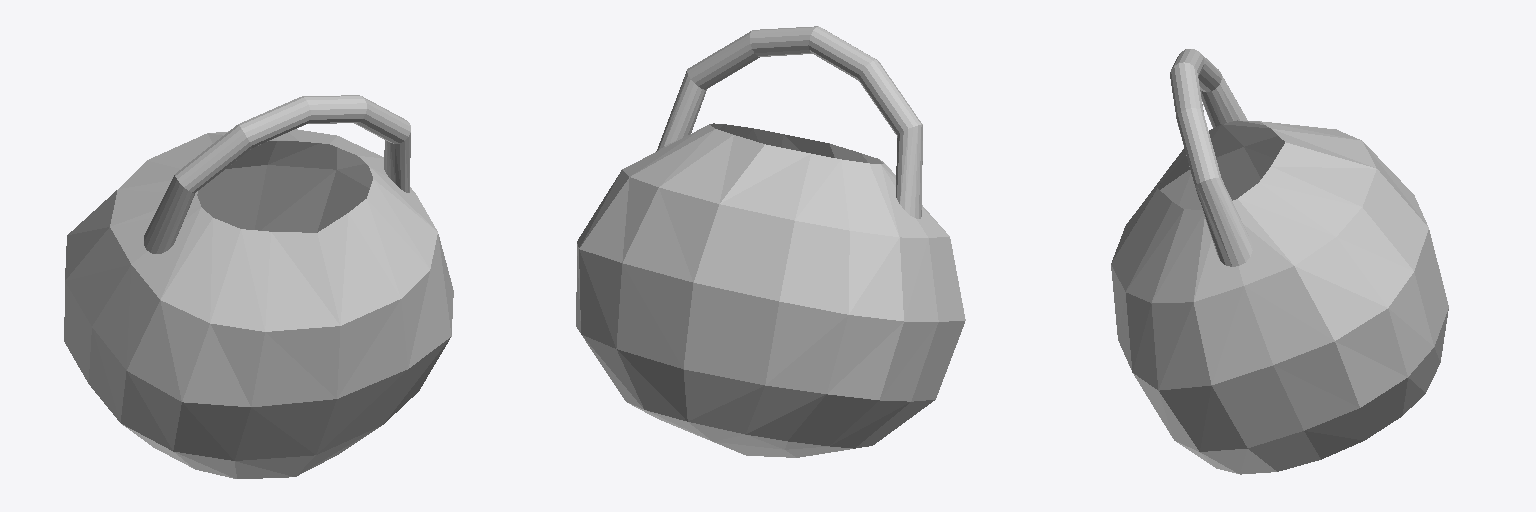
File: extraCalabazo.obj
The picture shows the model from 3 angles: view 1: azimuth 30°, elevation 25°; view 2: azimuth 150°, elevation 25°; view 3: azimuth 270°, elevation 25°; orthographic projection.
Parts seen in each view (by area): view 1: calabazoCalabesta; view 2: calabazoCalabesta; view 3: calabazoCalabesta.
Part boxes in pixels (x1,y1,x2,y2): calabazoCalabesta: (64, 95, 453, 478); calabazoCalabesta: (576, 26, 965, 457); calabazoCalabesta: (1111, 49, 1448, 474).
Bounding box in the file's own units: 0.9636 × 1.07 × 0.8432.